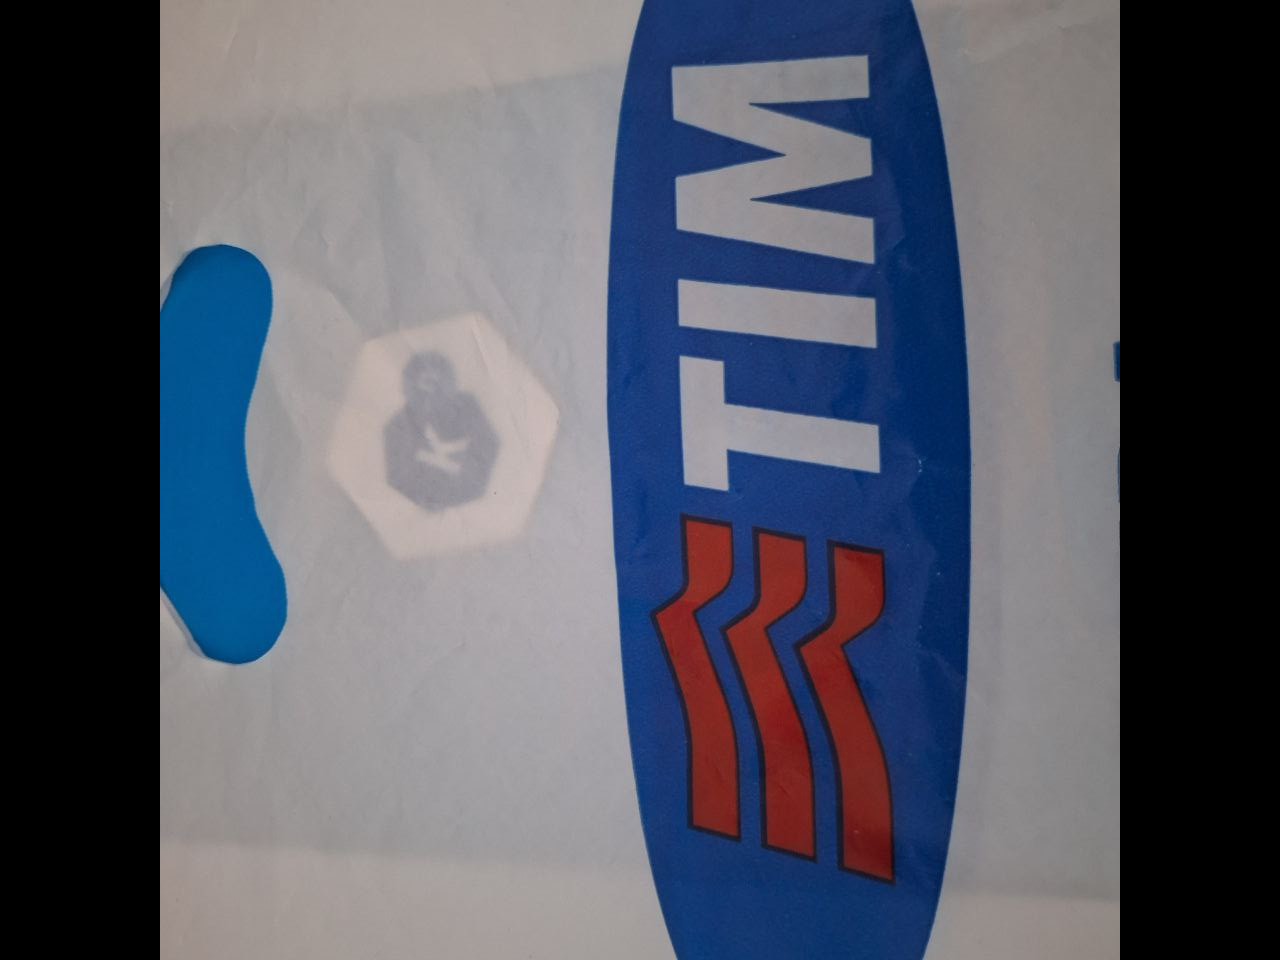knative: (380, 349, 504, 516)
